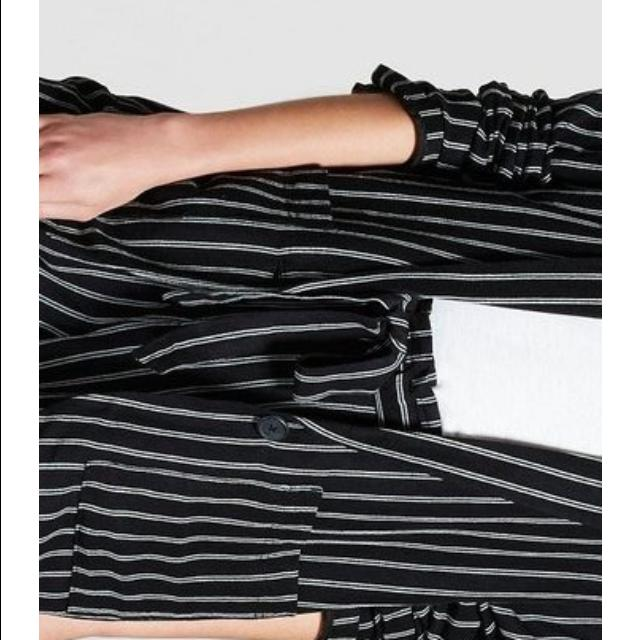linen: (39, 61, 602, 640)
